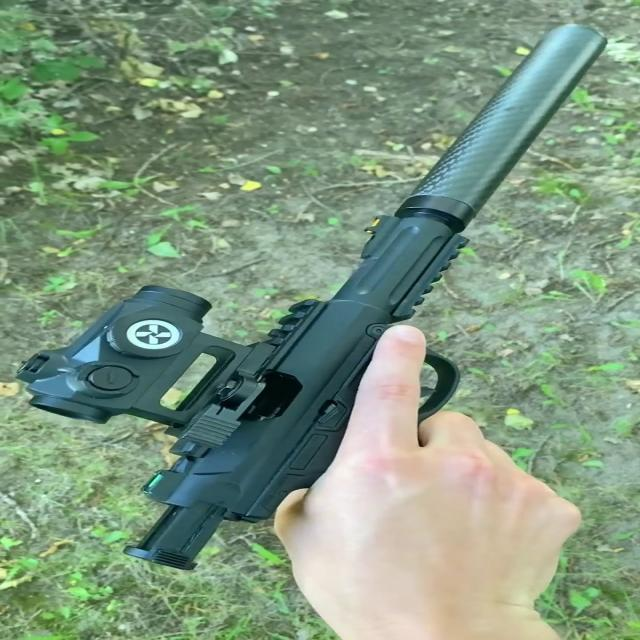Handgun: (18, 15, 614, 611)
